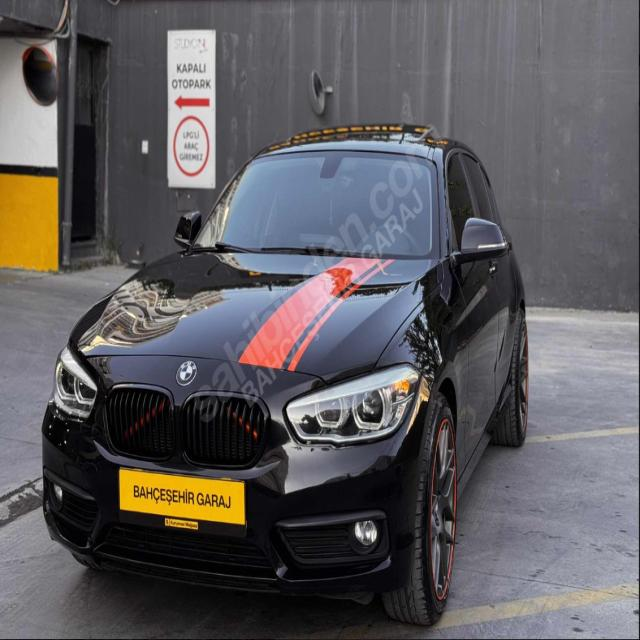bmw: (176, 358, 198, 388)
